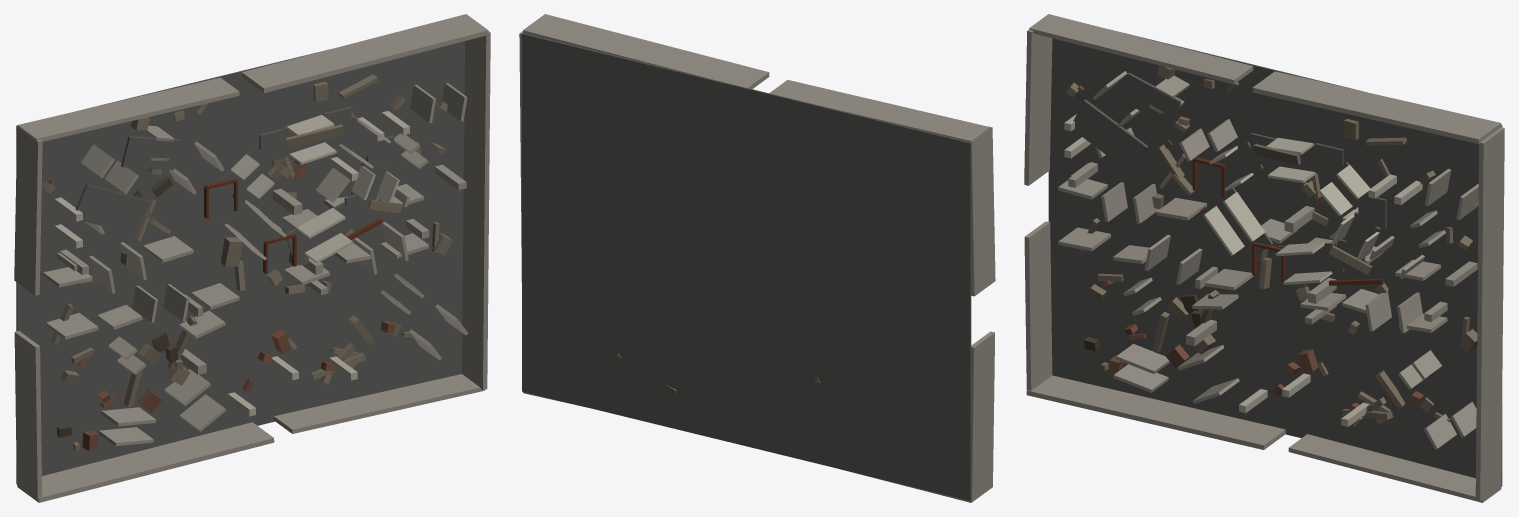
Rendered from Ruins-Urban-01_medium.obj.
3 views of the same model, side by side, from view 1: azimuth 30°, elevation 25°; view 2: azimuth 150°, elevation 25°; view 3: azimuth 330°, elevation 25° (orthographic).
Parts seen in each view (by area): view 1: floor_slab, east_boundary, north_boundary_east, south_boundary_west, north_boundary_west, south_boundary_east, west_boundary_north, west_boundary_south, utility_ceiling_01, utility_ceiling_02, upper_walkway_uc_ua, upper_walkway_u4_uc (+29 smaller); view 2: floor_slab, north_boundary_east, north_boundary_west, west_boundary_north, west_boundary_south; view 3: floor_slab, east_boundary, south_boundary_west, north_boundary_east, north_boundary_west, south_boundary_east, west_boundary_south, west_boundary_north, utility_ceiling_01, utility_ceiling_02, upper_walkway_u4_uc, upper_walkway_ua_u1 (+26 smaller).
Part boxes in pixels (x1=…): floor_slab: x1=16, y1=41, x2=464, y2=483; east_boundary: x1=462, y1=31, x2=490, y2=389; north_boundary_east: x1=242, y1=14, x2=488, y2=92; south_boundary_west: x1=17, y1=422, x2=274, y2=502; north_boundary_west: x1=17, y1=77, x2=239, y2=141; south_boundary_east: x1=274, y1=374, x2=484, y2=433; west_boundary_north: x1=14, y1=126, x2=42, y2=295; west_boundary_south: x1=14, y1=331, x2=42, y2=499; utility_ceiling_01: x1=75, y1=184, x2=149, y2=234; utility_ceiling_02: x1=121, y1=136, x2=181, y2=170; upper_walkway_uc_ua: x1=217, y1=194, x2=281, y2=254; upper_walkway_u4_uc: x1=285, y1=202, x2=352, y2=257; floor_slab: x1=522, y1=33, x2=971, y2=500; north_boundary_east: x1=523, y1=14, x2=769, y2=89; north_boundary_west: x1=769, y1=80, x2=990, y2=142; west_boundary_north: x1=971, y1=126, x2=995, y2=296; west_boundary_south: x1=971, y1=331, x2=994, y2=500; floor_slab: x1=1048, y1=29, x2=1502, y2=486; east_boundary: x1=1475, y1=127, x2=1504, y2=501; south_boundary_west: x1=1026, y1=375, x2=1285, y2=449; north_boundary_east: x1=1252, y1=71, x2=1501, y2=143; north_boundary_west: x1=1029, y1=14, x2=1253, y2=84; south_boundary_east: x1=1288, y1=434, x2=1501, y2=502; west_boundary_south: x1=1024, y1=221, x2=1052, y2=390; west_boundary_north: x1=1024, y1=29, x2=1052, y2=185; utility_ceiling_01: x1=1073, y1=99, x2=1148, y2=174; utility_ceiling_02: x1=1120, y1=72, x2=1181, y2=127; upper_walkway_u4_uc: x1=1277, y1=242, x2=1344, y2=275; upper_walkway_ua_u1: x1=1212, y1=141, x2=1263, y2=184.
Size of the model in its own units: 42.62 by 32.51 by 6.73.
